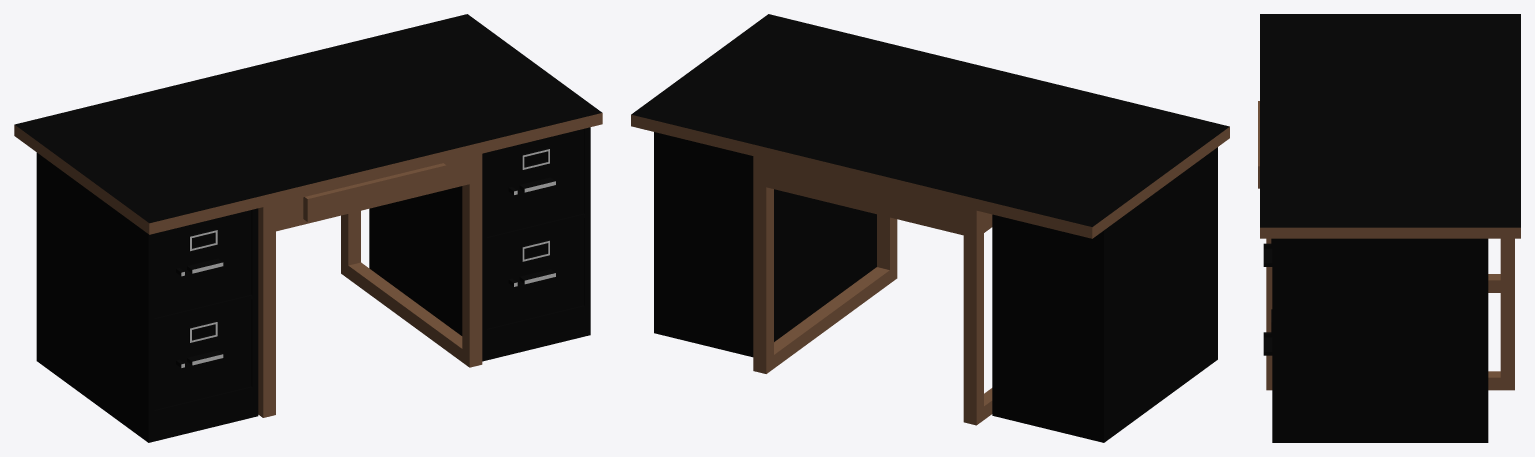
File: file_cabinet_desk.glb
3 renders of one model, left to right at view 1: azimuth 30°, elevation 25°; view 2: azimuth 150°, elevation 25°; view 3: azimuth 270°, elevation 25°, orthographic. The views are drawn at different scales.
Visible parts, largest first — view 1: file_cabinet_desk; view 2: file_cabinet_desk; view 3: file_cabinet_desk.
Part boxes in pixels (x1,y1,x2,y2): file_cabinet_desk: [14, 14, 602, 442]; file_cabinet_desk: [631, 14, 1229, 442]; file_cabinet_desk: [1258, 14, 1520, 442].
Size of the model in its own units: 62 by 29.5 by 32.25.
